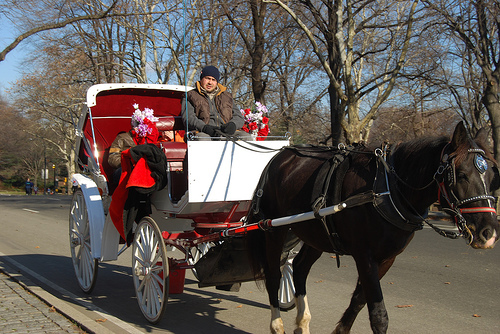horse: (244, 121, 499, 332)
